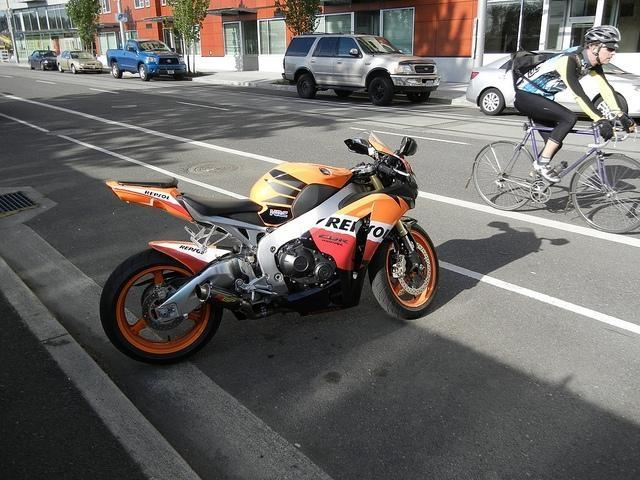bicycle: (473, 101, 639, 233)
car: (58, 48, 106, 77), (28, 50, 59, 71)
motorcycle: (101, 130, 439, 360)
truck: (281, 34, 441, 108), (104, 38, 188, 80)
